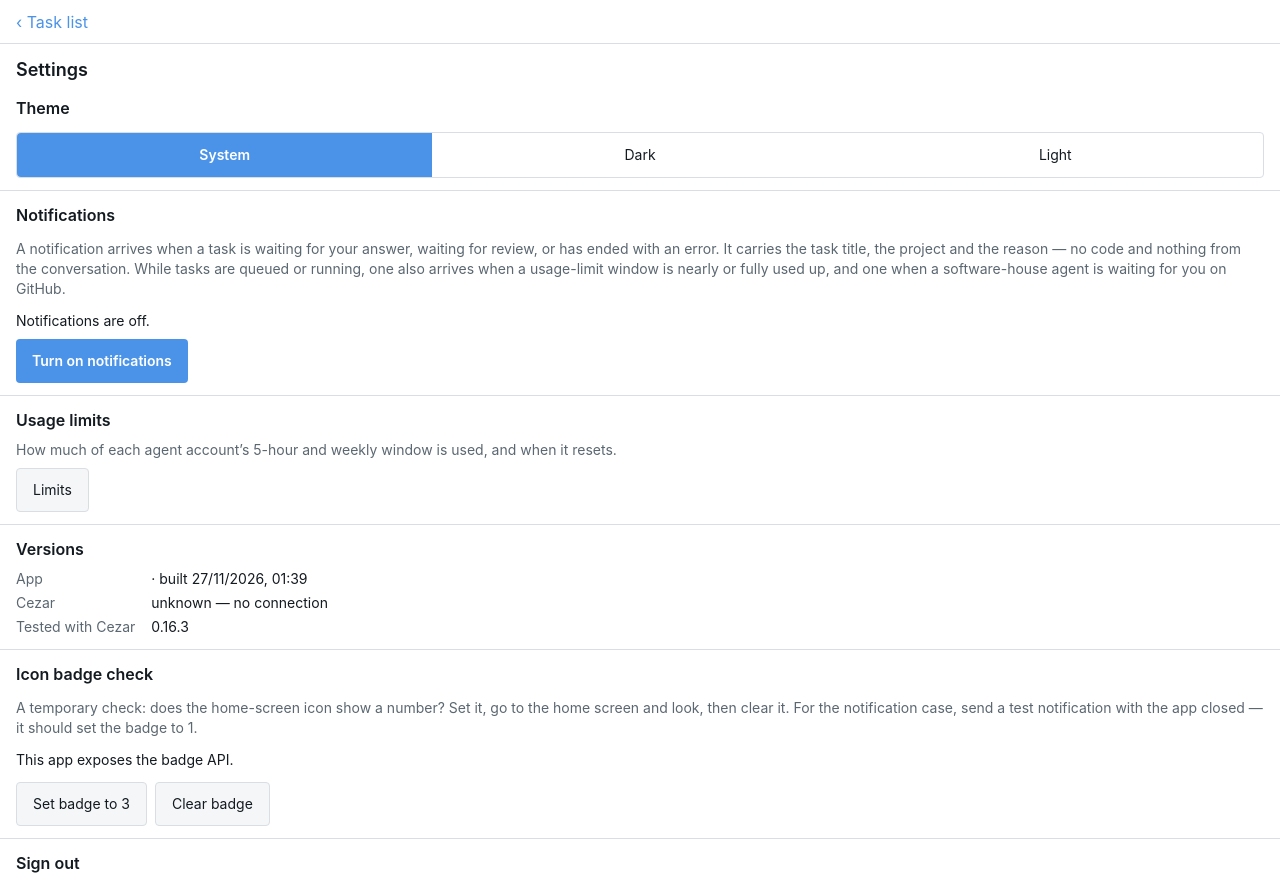
Test: Settings → Notifications › turns notifications on from a tap: prompt, subscribe with the key, register (FR-036)
What coordinates should you click on to do the following:
click the button "Turn on notifications"
I would click on:
 (102, 361)
Its box is [16, 339, 188, 383].
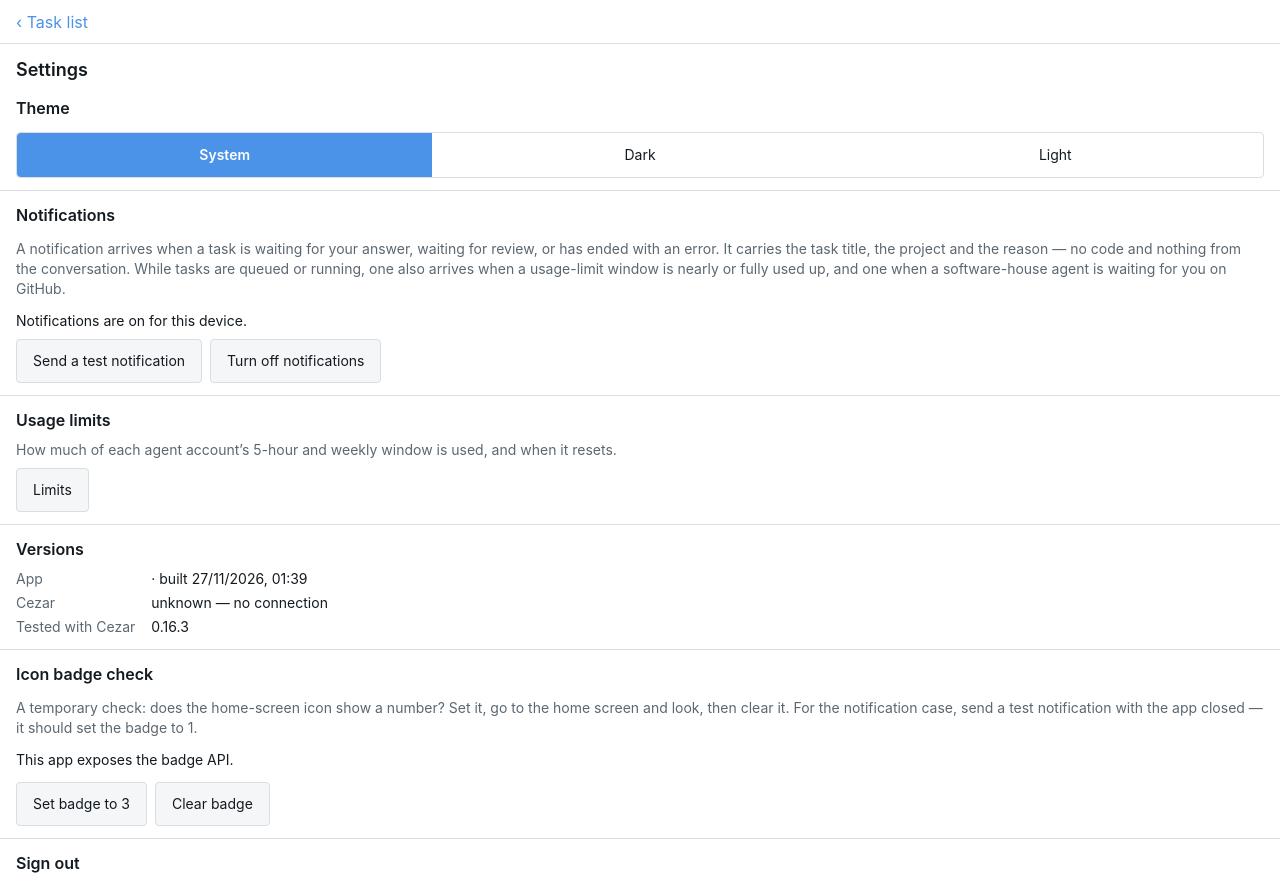
Result: the text "Notifications are on for this device." is shown at [16, 312, 247, 329]
